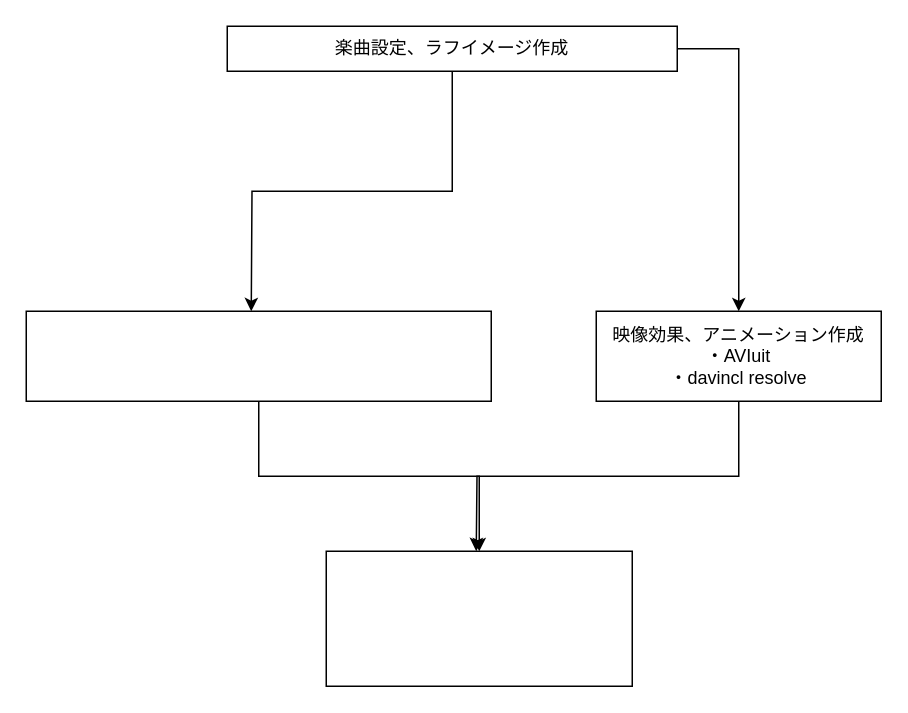
Some shapes in this 908 by 713 pixel diagram are drawn without their labels. The centre of each missing label's shape, as x and y in pixels:
"動画編集 ・davinci resolve" belongs at point (478, 618).
"映像の撮影方法の検討 ・Unity上でモーションの再生 ・VRchatで直撮り" belongs at point (258, 355).
